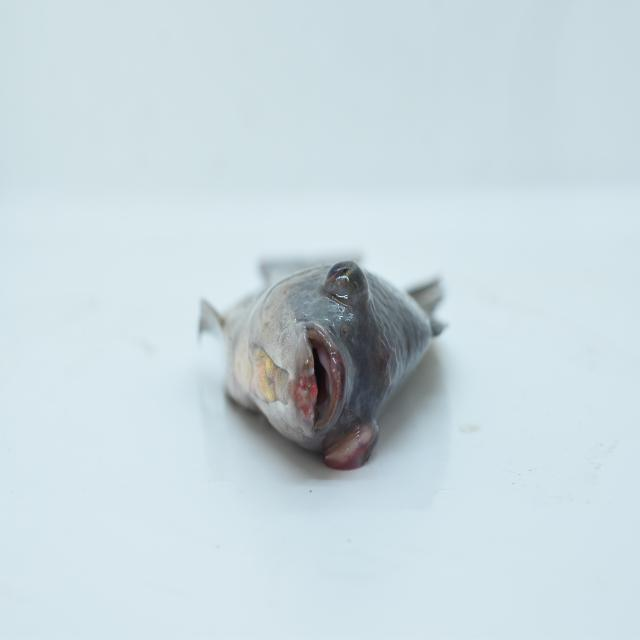Columnaris Disease: (178, 142, 484, 503)
